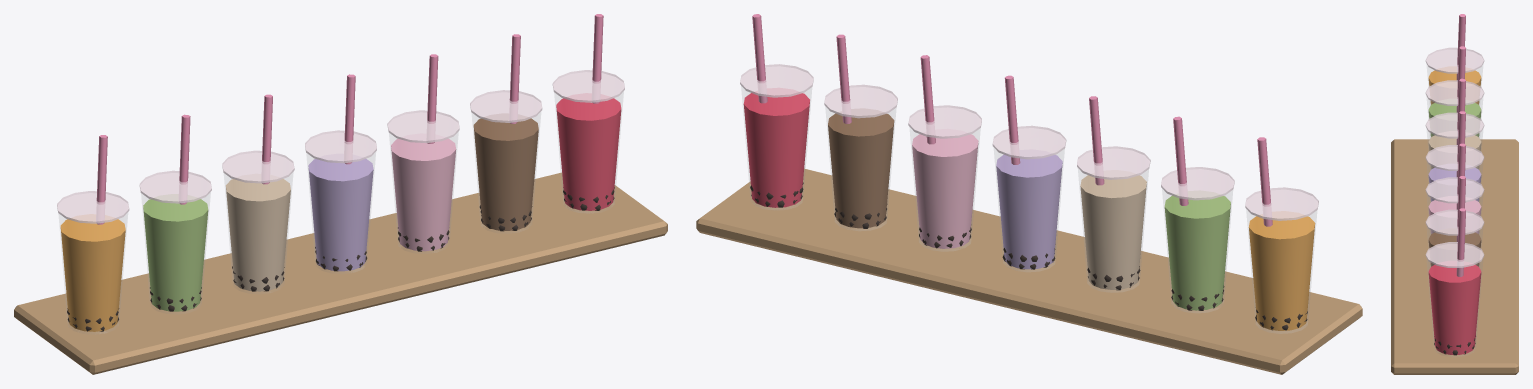
The model's file is SM_DrinkDisplay.fbx.
3 renders of one model, left to right at view 1: azimuth 30°, elevation 25°; view 2: azimuth 150°, elevation 25°; view 3: azimuth 270°, elevation 25°, orthographic. The views are drawn at different scales.
Parts seen in each view (by area): view 1: SM_DrinkDisplay; view 2: SM_DrinkDisplay; view 3: SM_DrinkDisplay.
Part boxes in pixels (x1,y1,x2,y2): SM_DrinkDisplay: (14, 14, 667, 374); SM_DrinkDisplay: (696, 14, 1362, 374); SM_DrinkDisplay: (1391, 14, 1518, 374).
Bounding box in the file's own units: 0.84 × 0.2704 × 0.2.
